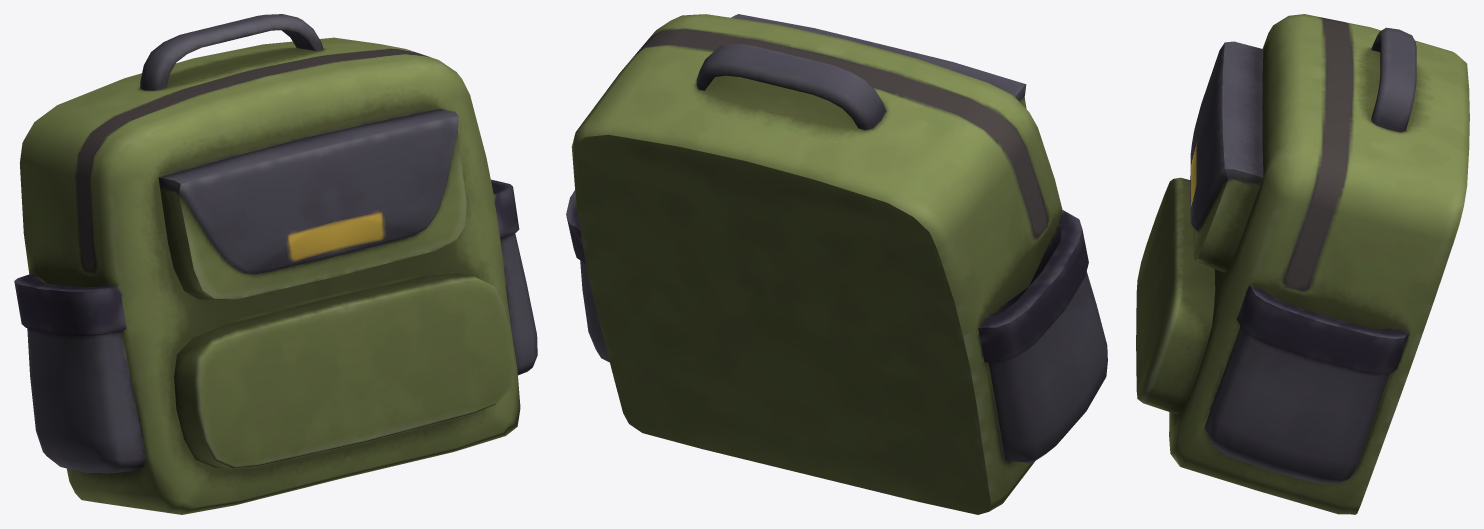
The model's file is IG_Backpack_LV1.fbx.
3 renders of one model, left to right at view 1: azimuth 30°, elevation 25°; view 2: azimuth 150°, elevation 25°; view 3: azimuth 270°, elevation 25°, orthographic. The views are drawn at different scales.
Parts seen in each view (by area): view 1: Backpack_LV1; view 2: Backpack_LV1; view 3: Backpack_LV1.
Part boxes in pixels (x1,y1,x2,y2): Backpack_LV1: (14,14,537,514); Backpack_LV1: (566,14,1107,514); Backpack_LV1: (1136,14,1469,514).
Bounding box in the file's own units: 0.4368 × 0.3838 × 0.2966.
